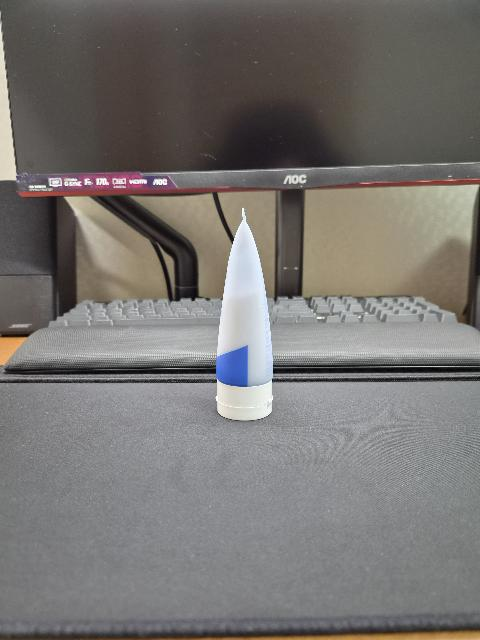handcream: (215, 207, 273, 421)
